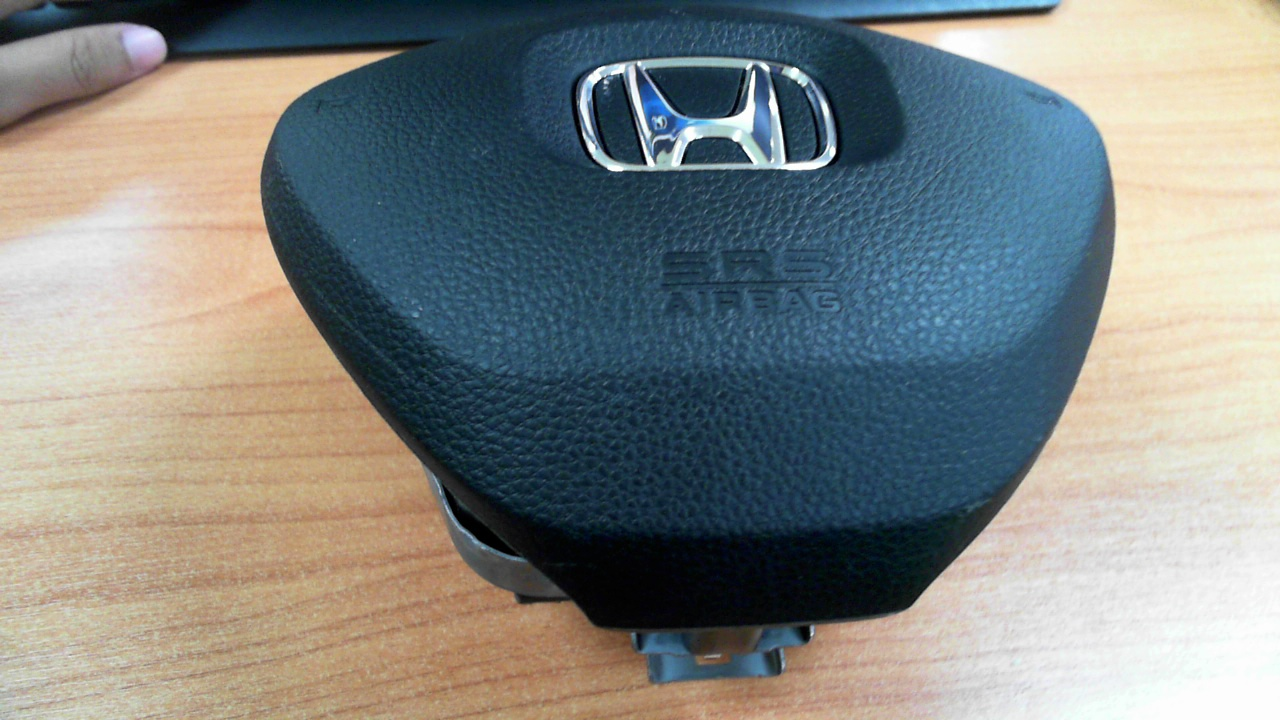Airbag: (257, 4, 1117, 687)
Honda: (577, 57, 837, 172)
